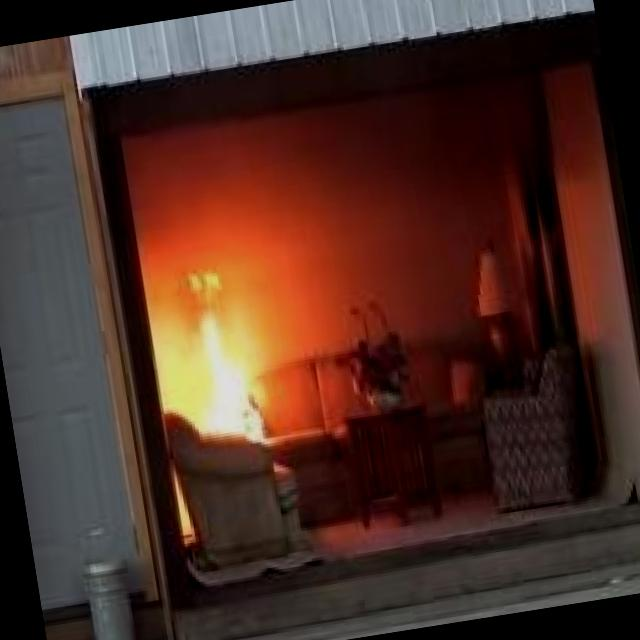fire: (136, 230, 319, 428)
